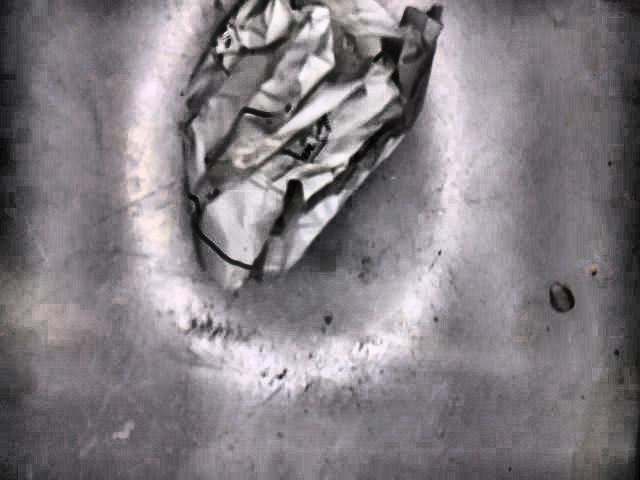Paper: (182, 3, 445, 289)
